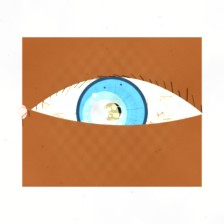corneal_ulcer: (81, 95, 129, 133)
